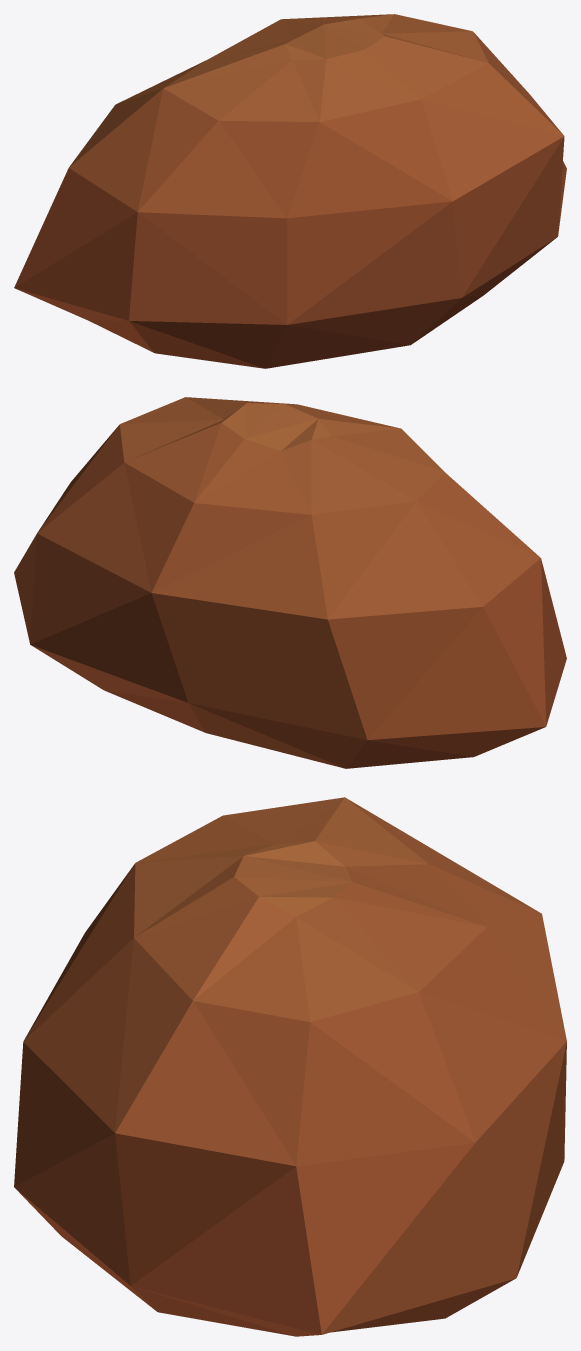
Rendered from RockWide.fbx.
3 renders of one model, top to bottom at view 1: azimuth 30°, elevation 25°; view 2: azimuth 150°, elevation 25°; view 3: azimuth 270°, elevation 25°, orthographic. The views are drawn at different scales.
Parts seen in each view (by area): view 1: RockWide; view 2: RockWide; view 3: RockWide.
Boxes of the visible parts, bbox=[...] form: RockWide: bbox=[14, 14, 566, 368]; RockWide: bbox=[14, 397, 566, 768]; RockWide: bbox=[14, 797, 566, 1336].
Bounding box in the file's own units: 2.39 × 1.07 × 1.46.
